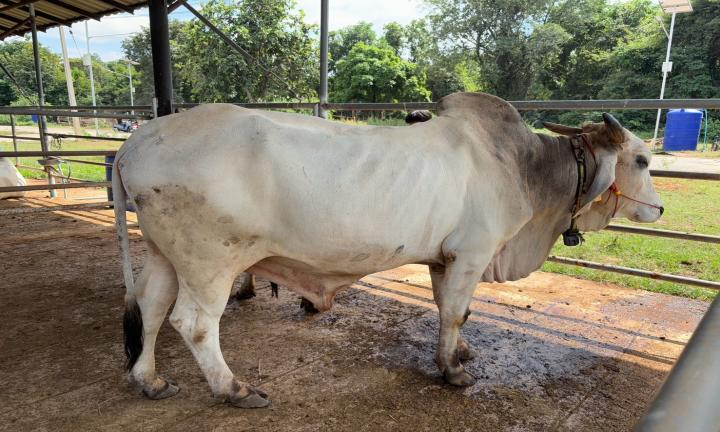Brahman: (113, 92, 662, 407)
